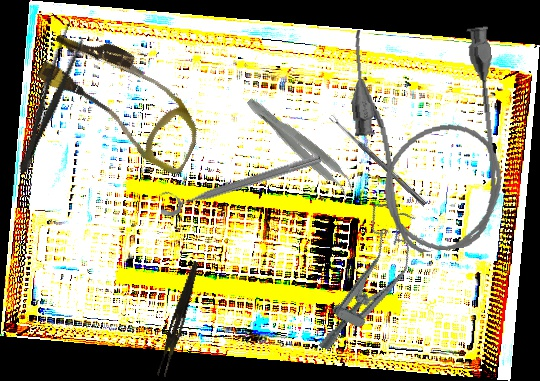Cannula: (342, 14, 515, 259), (25, 19, 220, 178)
Dressing Forceps: (10, 19, 89, 178), (156, 259, 201, 379)
Fixation Ring: (154, 141, 324, 220)
Speculum: (307, 197, 430, 366)
Surgical Spoon: (328, 113, 428, 207)
Tissue Forceps: (239, 93, 361, 201)
